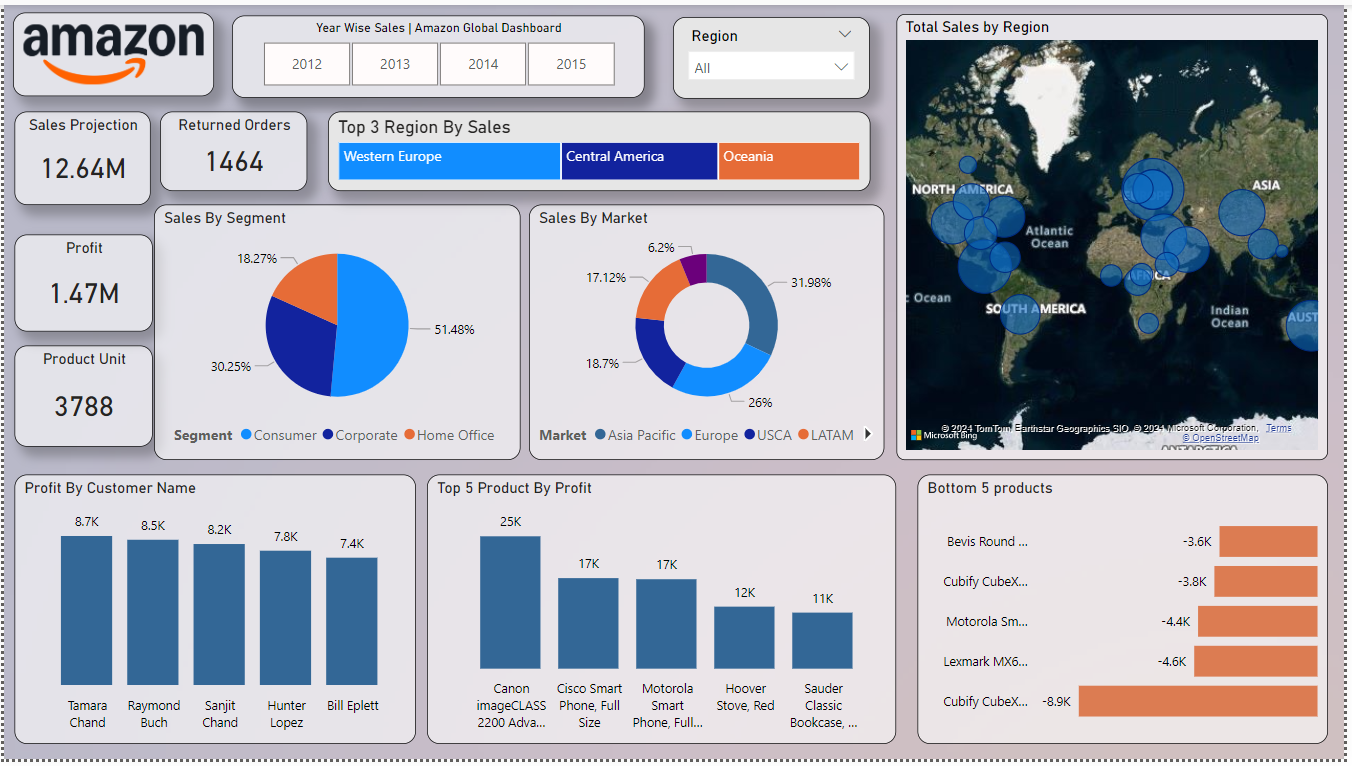

Layout of this report page (visuals, bound fields, positions):
{"tool":"powerbi","page":{"name":"Page 1","canvas":[1280,720],"ordinal":0},"visuals":[{"type":"slicer","title":"Year Wise Sales | Amazon Global Dashboard","fields":{"Values":["Orders.Year"]},"box":[218,10.6,393.7,78.7],"z":0},{"type":"card","title":"Sales Projection","fields":{"Values":["Orders.Sales"]},"box":[10.6,101.5,130.2,89.3],"z":1000},{"type":"card","title":"Product Unit","fields":{"Values":["Orders.Product ID"]},"box":[6.4,324.5,132,97],"z":2000},{"type":"card","title":"Profit","fields":{"Values":["Orders.Profit"]},"box":[6.4,214.7,132,92.3],"z":3000},{"type":"card","title":"Returned Orders","fields":{"Values":["Orders.Ship Date"]},"box":[148.4,101.5,140.8,75.7],"z":4000},{"type":"image","box":[9.1,7.6,192.3,80.3],"z":5000},{"type":"pieChart","title":"Sales By Segment","fields":{"Category":["Orders.Segment"],"Y":["Orders.Total Sales"]},"box":[143.8,190.8,349.8,243.8],"z":6000},{"type":"donutChart","title":"Sales By Market","fields":{"Y":["Orders.Total Sales"],"Category":["Orders.Market"]},"box":[501.2,190.8,339.2,243.8],"z":7000},{"type":"columnChart","title":"Profit By Customer Name","fields":{"Y":["Orders.Profit"],"Category":["Orders.Customer Name"]},"box":[9.4,447.9,383.6,257],"z":8000},{"type":"columnChart","title":"Top 5 Product By Profit","fields":{"Y":["Orders.Profit"],"Category":["Orders.Product Name"]},"box":[404.3,448.2,448.2,257.4],"z":9000},{"type":"barChart","title":"Bottom 5 products","fields":{"Category":["Orders.Product Name"],"Y":["Orders.Profit"]},"box":[872.2,448.2,392.2,257.4],"z":10000},{"type":"slicer","fields":{"Values":["Orders.Region"]},"box":[639.4,11.1,187.7,77.9],"z":11000},{"type":"map","fields":{"Category":["Orders.Region"],"Size":["Orders.Total Sales"]},"box":[852.6,8,412,426.3],"z":12000},{"type":"treemap","title":"Top 3 Region By Sales","fields":{"Group":["Orders.Region"],"Values":["Orders.Total Sales"]},"box":[308.9,101.5,517.9,75.7],"z":13000}]}

Visuals, with their boxes in screenshot pixels (x1, y1, x2, y2), scaled from the page's 1280x720 canvas onto the 1352x766 screenshot:
"Year Wise Sales | Amazon Global Dashboard" slicer: 230/11/646/95
"Sales Projection" card: 11/108/149/203
"Product Unit" card: 7/345/146/448
"Profit" card: 7/228/146/327
"Returned Orders" card: 157/108/305/189
image: 10/8/213/94
"Sales By Segment" pieChart: 152/203/521/462
"Sales By Market" donutChart: 529/203/888/462
"Profit By Customer Name" columnChart: 10/477/415/750
"Top 5 Product By Profit" columnChart: 427/477/900/751
"Bottom 5 products" barChart: 921/477/1336/751
slicer - Orders.Region: 675/12/874/95
map - Orders.Region x Orders.Total Sales: 901/9/1336/462
"Top 3 Region By Sales" treemap: 326/108/873/189
